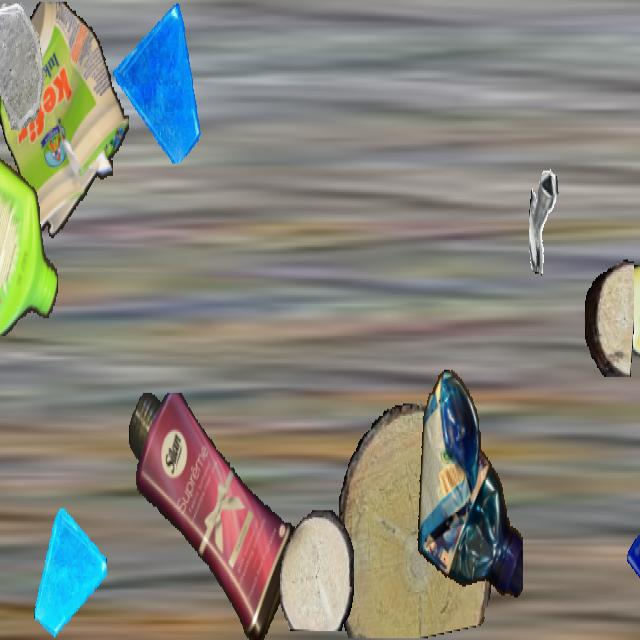glass: (113, 2, 203, 162), (32, 507, 106, 638), (0, 2, 47, 130), (625, 498, 640, 636)
metal: (529, 169, 591, 279)
plastic: (128, 393, 300, 638), (0, 2, 129, 247), (414, 366, 522, 608), (0, 100, 59, 334), (608, 259, 640, 377)
wood: (335, 404, 495, 638), (280, 510, 354, 631), (585, 258, 633, 375)
